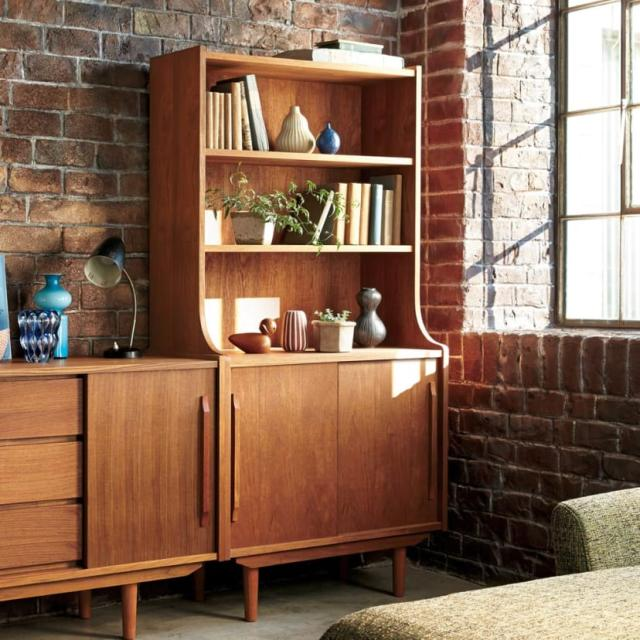vintage shelf: (144, 45, 453, 602), (0, 353, 217, 634)
